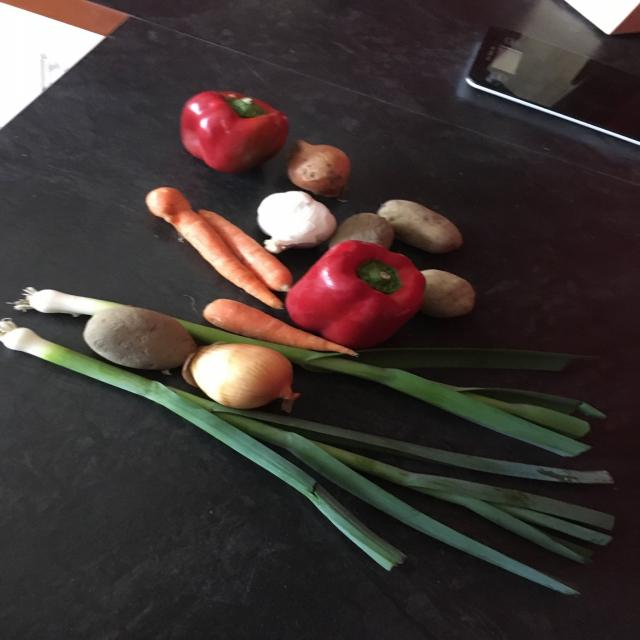Carrot: (144, 183, 293, 312), (200, 290, 356, 360)
Garlic bulb: (254, 187, 338, 254)
Leek: (0, 314, 615, 600), (11, 278, 612, 447)
Onion: (182, 341, 306, 410), (284, 133, 360, 196)
Pepper: (284, 238, 432, 359), (175, 78, 291, 178)
Potato: (81, 299, 198, 381), (376, 196, 467, 254), (418, 267, 484, 321), (333, 212, 394, 253)
